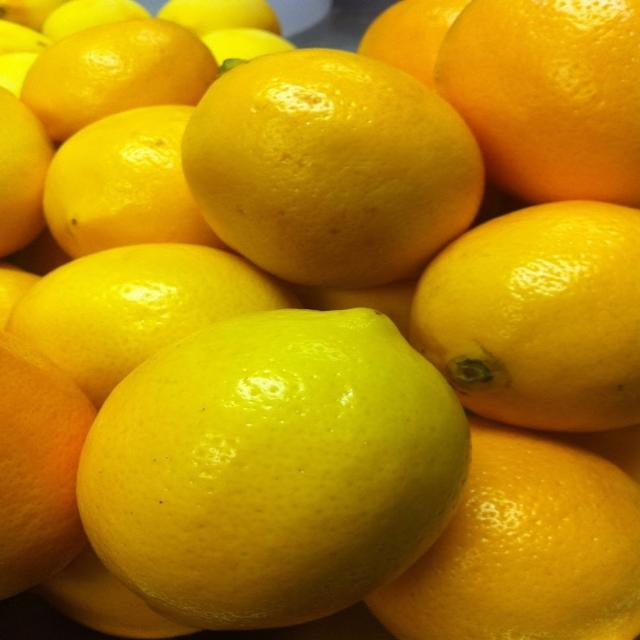lemon: (81, 307, 467, 628), (186, 58, 500, 281)
